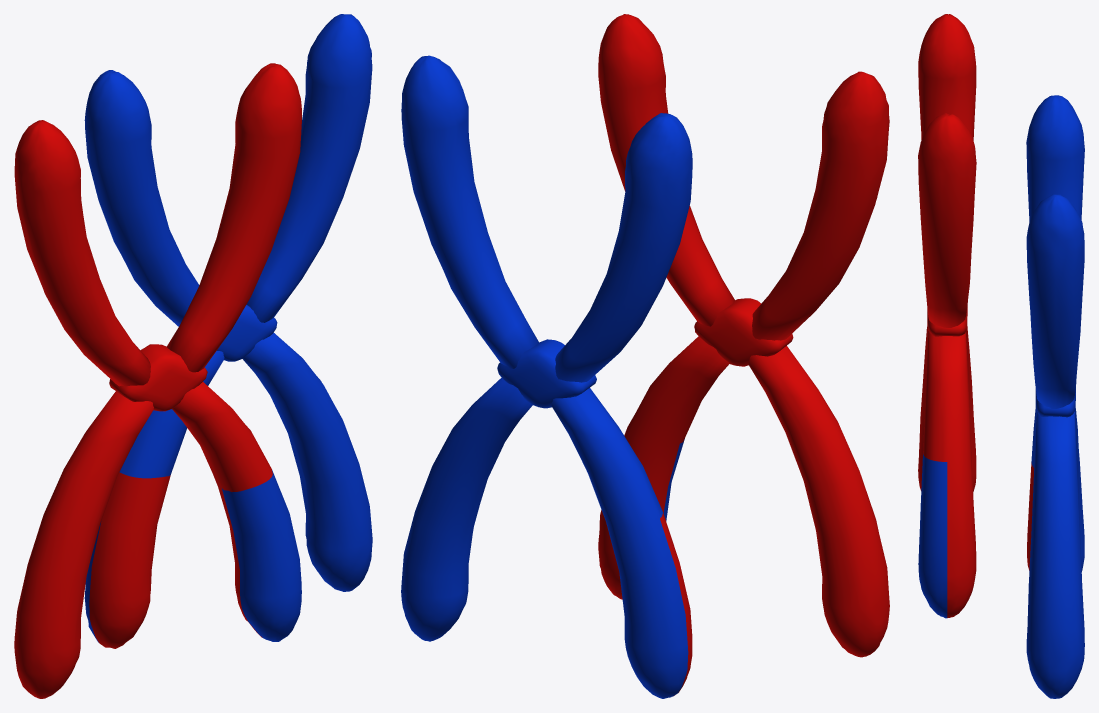
File: chromosome.glb
The picture shows the model from 3 angles, left to right: view 1: azimuth 30°, elevation 25°; view 2: azimuth 150°, elevation 25°; view 3: azimuth 270°, elevation 25°; orthographic projection. The views are drawn at different scales.
Visible parts, largest first — view 1: Cube_0, Cube.002_2, Cube.003_3, Cube.001_1; view 2: Cube.002_2, Cube_0, Cube.003_3; view 3: Cube.002_2, Cube_0, Cube.001_1, Cube.003_3.
Part boxes in pixels (box(x1,y1,x2,y2)): Cube_0: box(14, 63, 301, 698); Cube.002_2: box(84, 14, 372, 642); Cube.003_3: box(89, 472, 170, 648); Cube.001_1: box(222, 470, 301, 641); Cube.002_2: box(401, 55, 692, 698); Cube_0: box(598, 14, 889, 657); Cube.003_3: box(660, 512, 692, 695); Cube.002_2: box(1026, 95, 1084, 698); Cube_0: box(918, 14, 976, 617); Cube.001_1: box(918, 454, 947, 618); Cube.003_3: box(1027, 462, 1034, 570).
Bounding box in the file's own units: 7.23 × 10.14 × 2.91.
